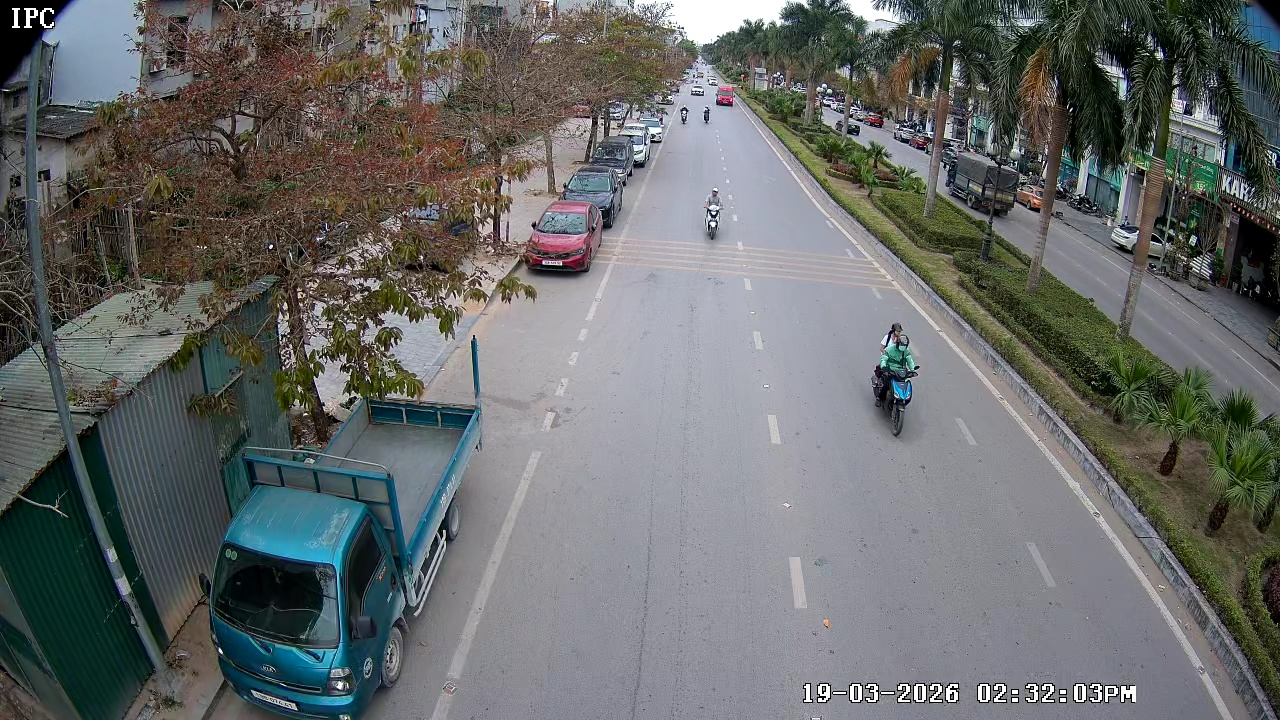car: (524, 200, 602, 276), (561, 168, 622, 228)
motorbike: (870, 322, 921, 437), (703, 182, 723, 247), (680, 106, 689, 127), (703, 108, 712, 124)
